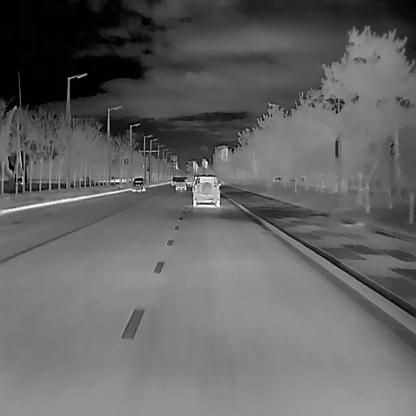car: (192, 175, 220, 206), (132, 176, 144, 191), (175, 176, 186, 190), (171, 176, 179, 186), (185, 176, 194, 184)
